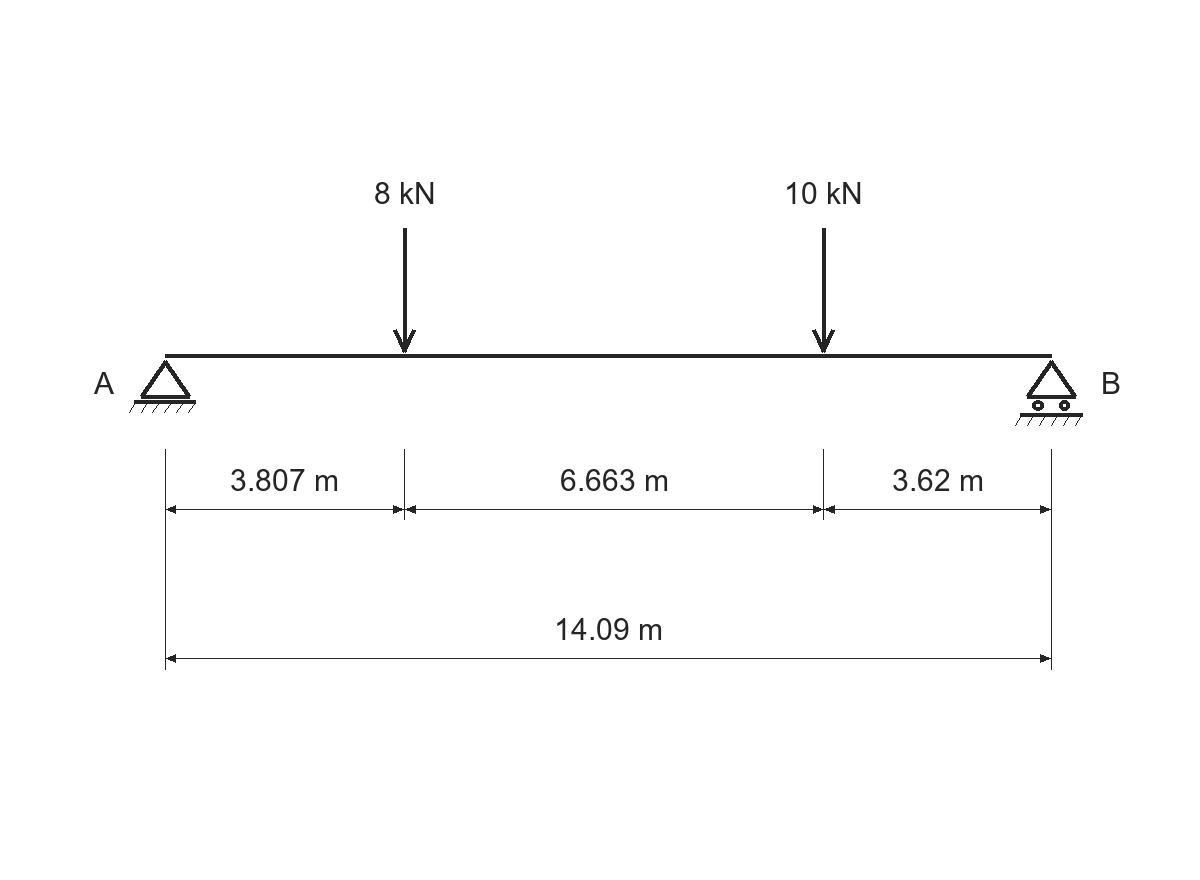pin_support: (129, 360, 196, 413)
point_load: (393, 228, 416, 353), (812, 228, 835, 353)
roller_support: (1015, 360, 1083, 426)
